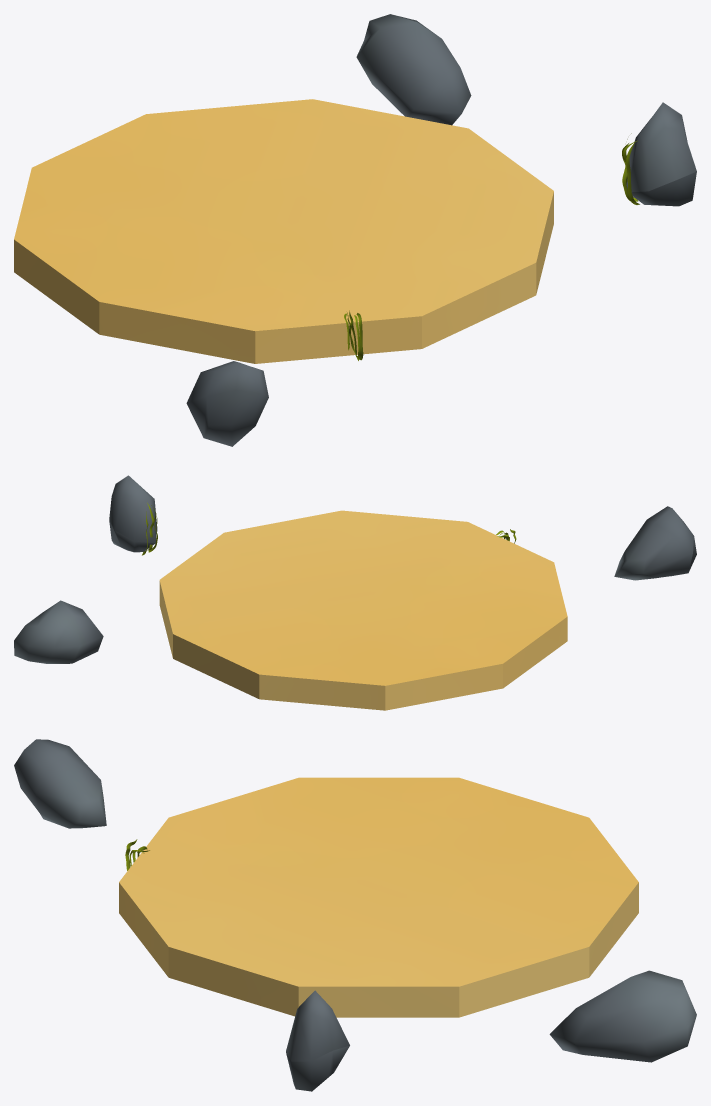
The model's file is desertGeks.fbx.
The picture shows the model from 3 angles, top to bottom: view 1: azimuth 30°, elevation 25°; view 2: azimuth 150°, elevation 25°; view 3: azimuth 270°, elevation 25°; orthographic projection. The views are drawn at different scales.
Parts seen in each view (by area): view 1: Icosphere, Cube; view 2: Icosphere, Cube; view 3: Icosphere, Cube.
Boxes of the visible parts, left/top/right/bottom form: Icosphere: left=14, top=99, right=553, bottom=363; Cube: left=186, top=14, right=696, bottom=446; Icosphere: left=159, top=510, right=567, bottom=710; Cube: left=14, top=475, right=696, bottom=663; Icosphere: left=119, top=777, right=638, bottom=1017; Cube: left=14, top=739, right=696, bottom=1091.
Bounding box in the file's own units: 5635 × 886 × 5548.
1 material, 1 textured.
